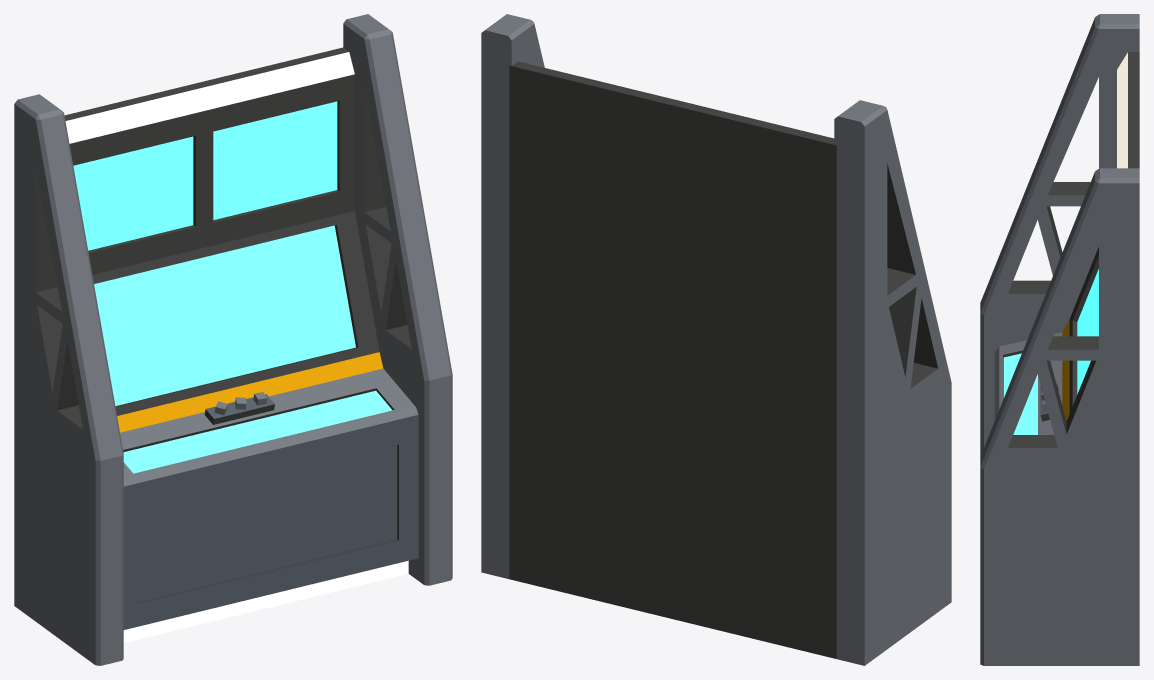
Rendered from wall_bank_core_science.glb.
3 views of the same model, side by side, from view 1: azimuth 30°, elevation 25°; view 2: azimuth 150°, elevation 25°; view 3: azimuth 270°, elevation 25° (orthographic). The views are drawn at different scales.
Visible parts, largest first — view 1: wall_bank_core_science; view 2: wall_bank_core_science; view 3: wall_bank_core_science.
Part boxes in pixels (<box>): wall_bank_core_science: <box>14,14,452,665</box>; wall_bank_core_science: <box>481,14,951,665</box>; wall_bank_core_science: <box>980,14,1139,665</box>.
Bounding box in the file's own units: 1.64 × 2.22 × 0.66.
